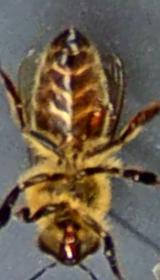varroa_mite: (80, 99, 111, 138)
